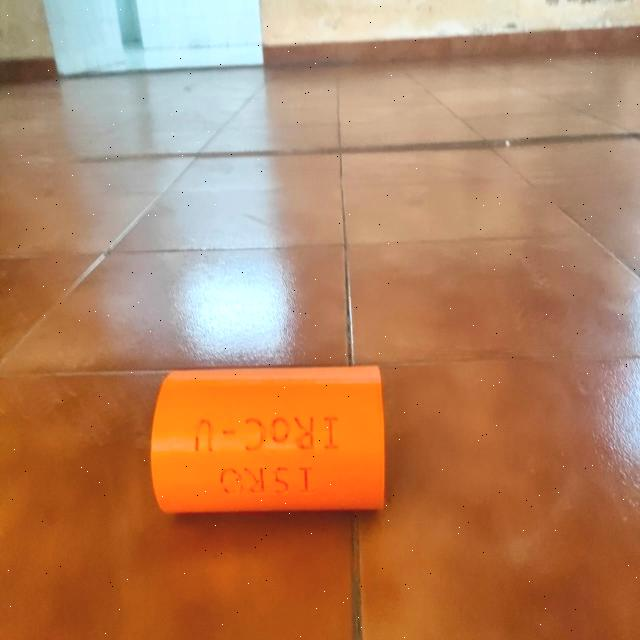Cylinder: (150, 364, 386, 514)
